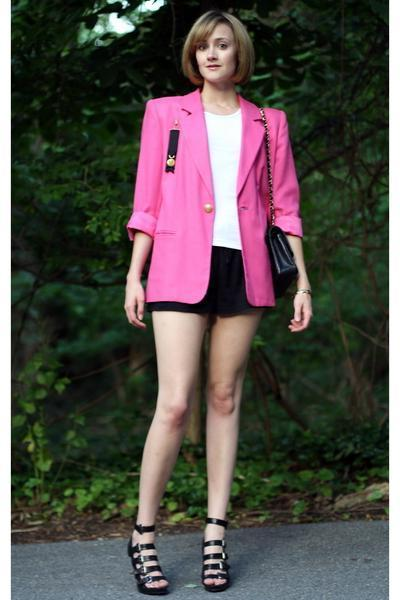jacket: (123, 89, 308, 320)
skirt: (139, 247, 272, 314)
vest: (180, 104, 256, 252)
